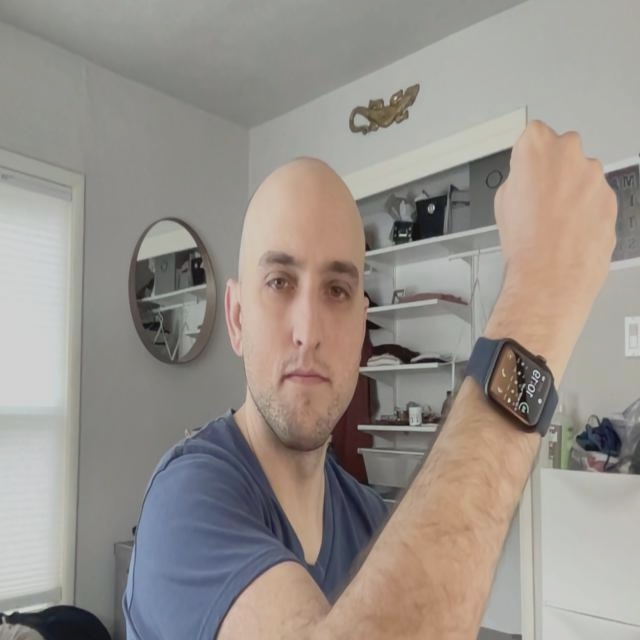Rock: (491, 115, 618, 300)
